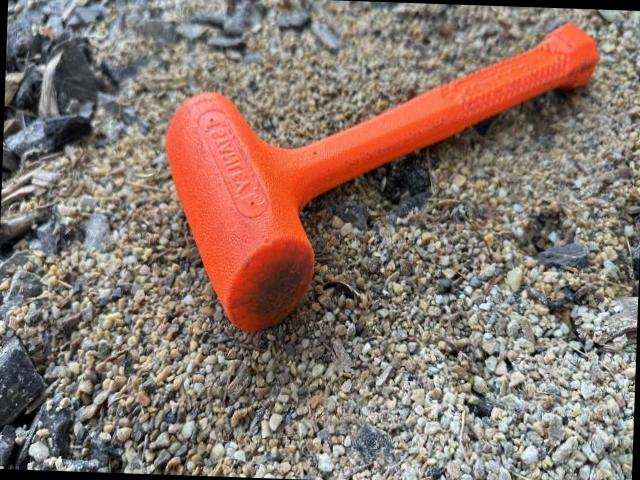hammer: (159, 10, 601, 345)
